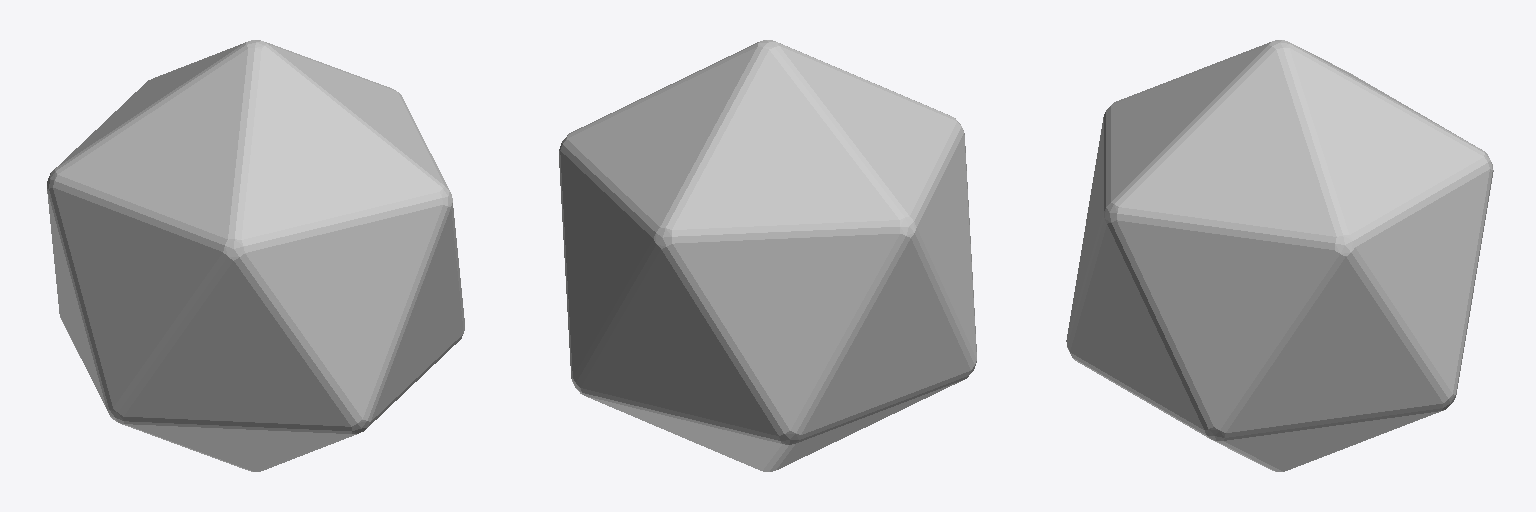
File: New Dice.obj
3 renders of one model, left to right at view 1: azimuth 30°, elevation 25°; view 2: azimuth 150°, elevation 25°; view 3: azimuth 270°, elevation 25°, orthographic.
Parts seen in each view (by area): view 1: D20.003_D20.001_Icosphere.002; view 2: D20.003_D20.001_Icosphere.002; view 3: D20.003_D20.001_Icosphere.002.
Boxes of the visible parts, x1,y1,x2,y2 form: D20.003_D20.001_Icosphere.002: [47, 40, 464, 471]; D20.003_D20.001_Icosphere.002: [559, 40, 976, 471]; D20.003_D20.001_Icosphere.002: [1066, 40, 1493, 471].
Bounding box in the file's own units: 1.29 × 1.49 × 1.35.